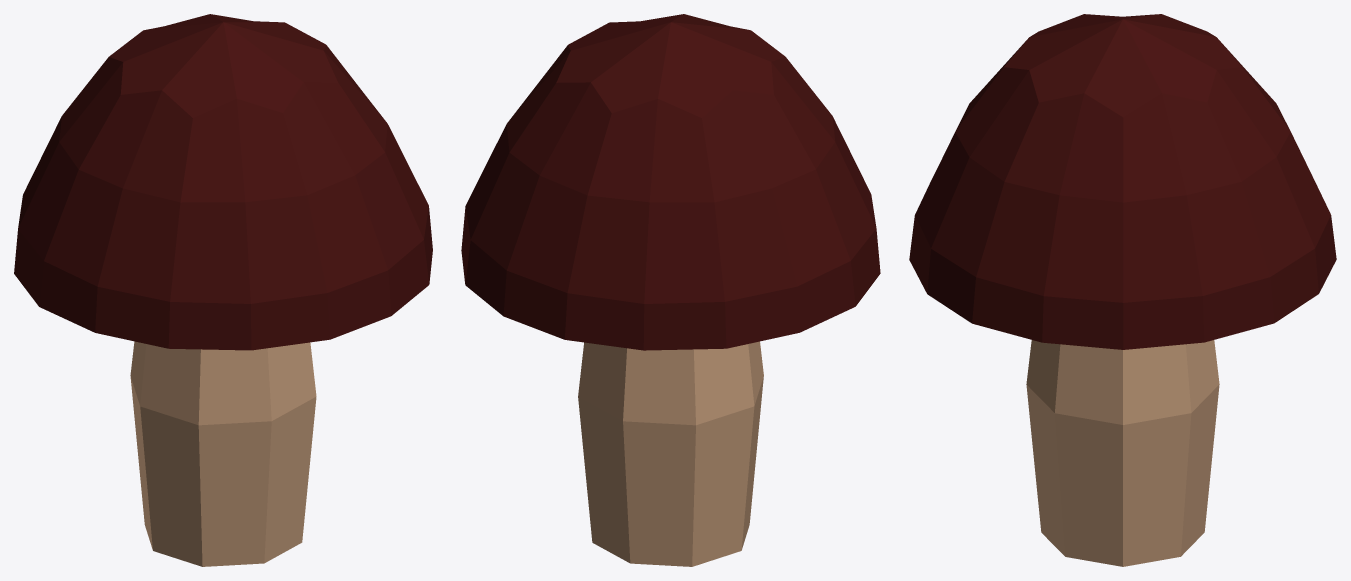
The model's file is mushroom6.obj.
The picture shows the model from 3 angles, left to right: view 1: azimuth 30°, elevation 25°; view 2: azimuth 150°, elevation 25°; view 3: azimuth 270°, elevation 25°; orthographic projection.
Parts seen in each view (by area): view 1: Mushroom2_2.001_Cylinder.051; view 2: Mushroom2_2.001_Cylinder.051; view 3: Mushroom2_2.001_Cylinder.051.
Boxes of the visible parts, bbox=[...] form: Mushroom2_2.001_Cylinder.051: bbox=[14, 14, 432, 566]; Mushroom2_2.001_Cylinder.051: bbox=[461, 14, 880, 566]; Mushroom2_2.001_Cylinder.051: bbox=[909, 14, 1336, 566].
Bounding box in the file's own units: 0.6048 × 0.8012 × 0.6048.
